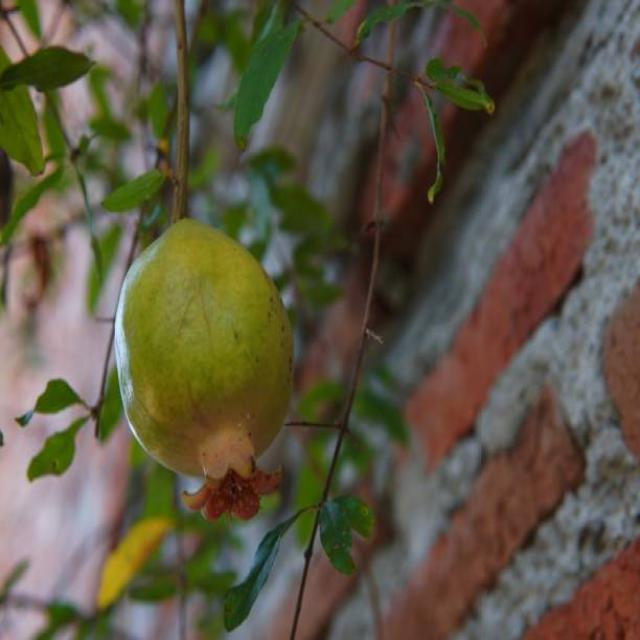Unripe: (117, 212, 292, 531)
